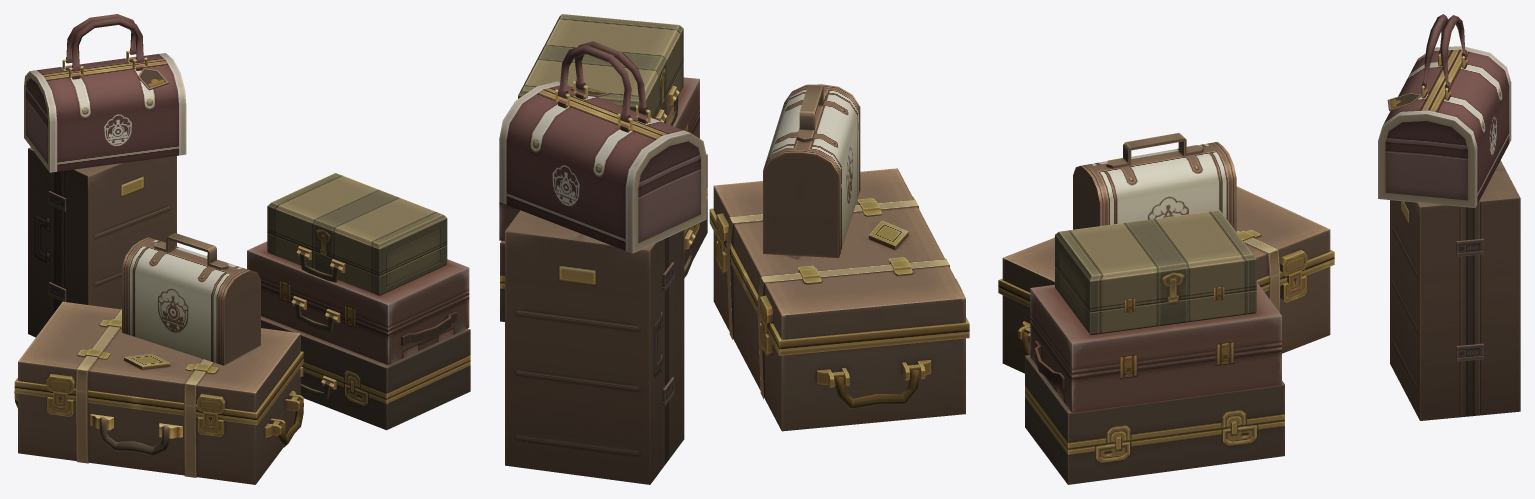
Rendered from my_highlander_01_suitcase_01.glb.
3 views of the same model, side by side, from view 1: azimuth 30°, elevation 25°; view 2: azimuth 150°, elevation 25°; view 3: azimuth 270°, elevation 25° (orthographic). The views are drawn at different scales.
Parts seen in each view (by area): view 1: my_highlander_01_suitcase_01; view 2: my_highlander_01_suitcase_01; view 3: my_highlander_01_suitcase_01.
Part boxes in pixels (x1,y1,x2,y2): my_highlander_01_suitcase_01: [14, 14, 470, 484]; my_highlander_01_suitcase_01: [499, 14, 969, 484]; my_highlander_01_suitcase_01: [998, 14, 1520, 484].
Bounding box in the file's own units: 0.0105 × 0.00815 × 0.0105.
Materials: 1 (1 with a texture image).
